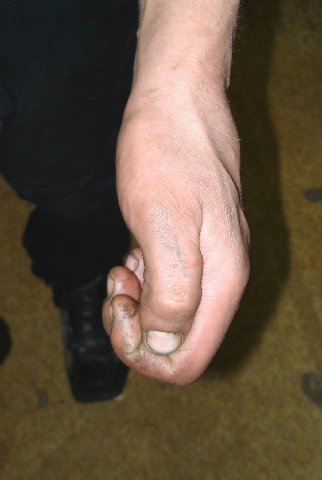tatu9_krest: (160, 233, 196, 282)
